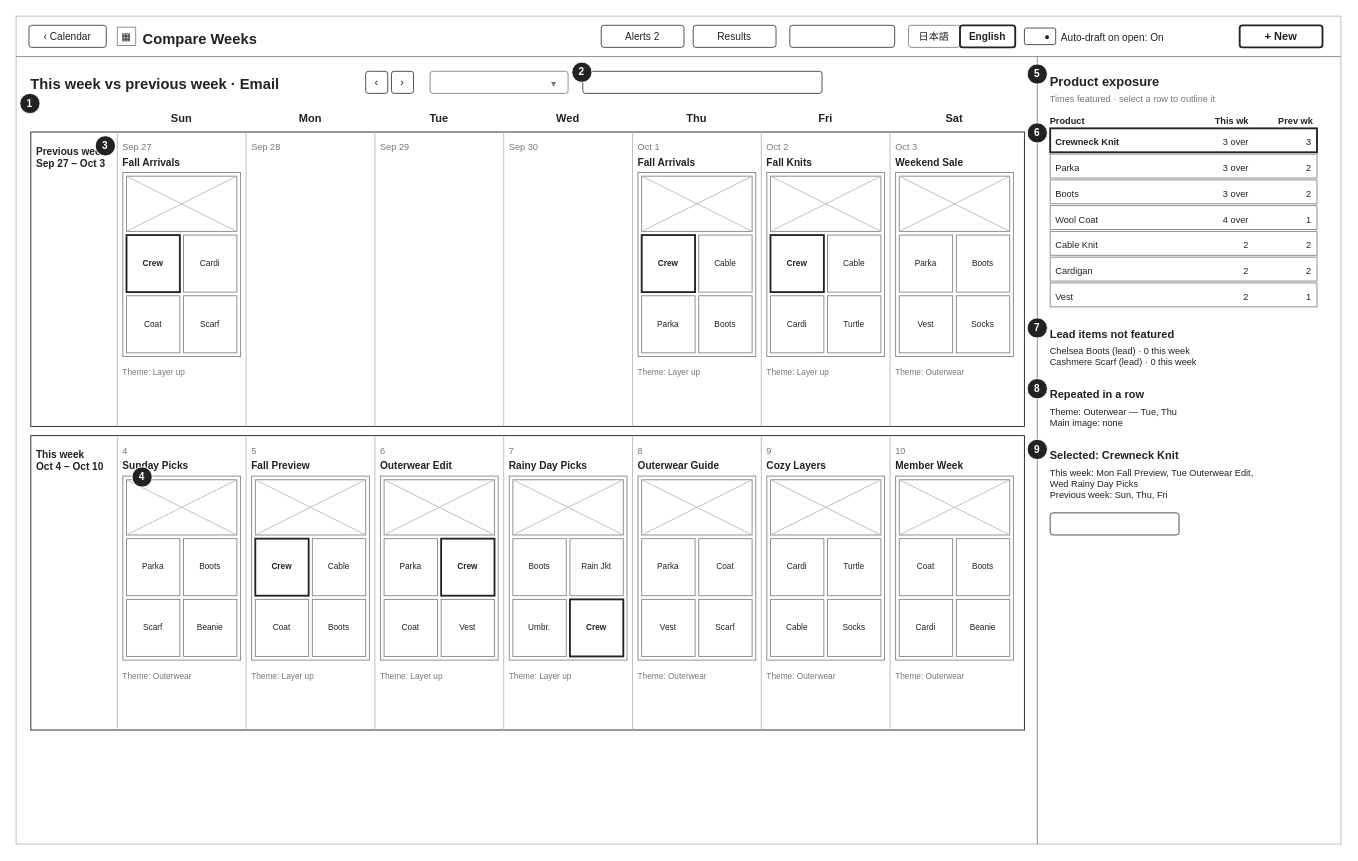
Some shapes in this 1358 by 861 pixel diagram are drawn without their labels. Here are the shapes that lost their labels. From the top down, the box of each, then its label:
(789, 24, 895, 47): Templates
(429, 70, 568, 93): Channel: Email
(582, 70, 822, 93): Limit: same product max 2 per week Edit
(1049, 512, 1179, 535): Open Tue delivery
